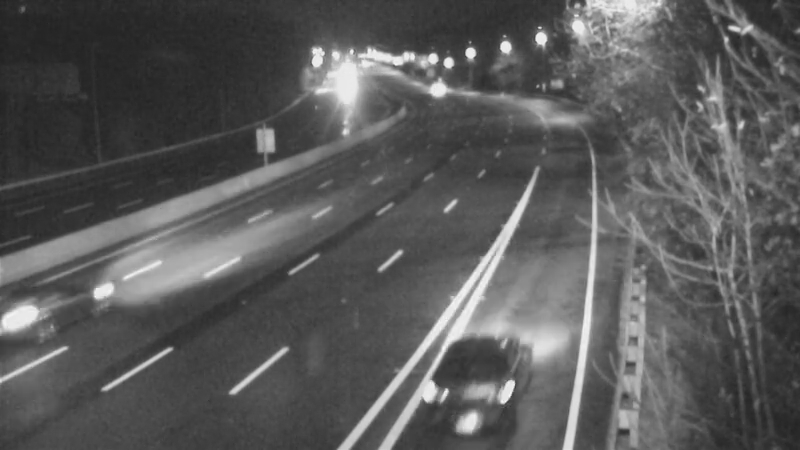vehicle: (418, 324, 528, 434), (1, 246, 110, 356), (408, 65, 458, 115)
